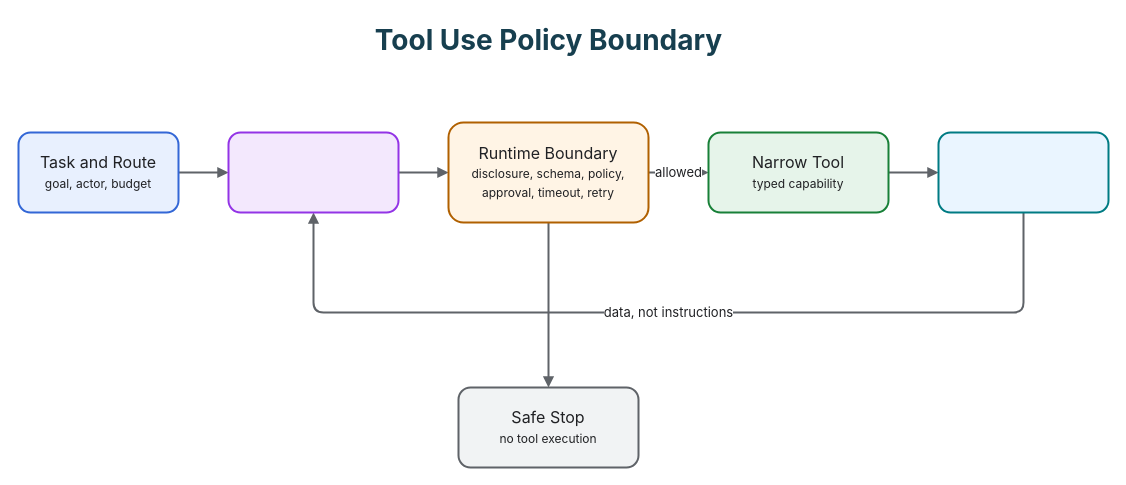
This 1126x485 diagram has some shape labels left out. The centre of each missing label's shape, as x and y in pixels:
"Model Proposal name, args, key" belongs at pixel 313 172.
"Observation as Data status, trust, evidence" belongs at pixel 1023 172.
